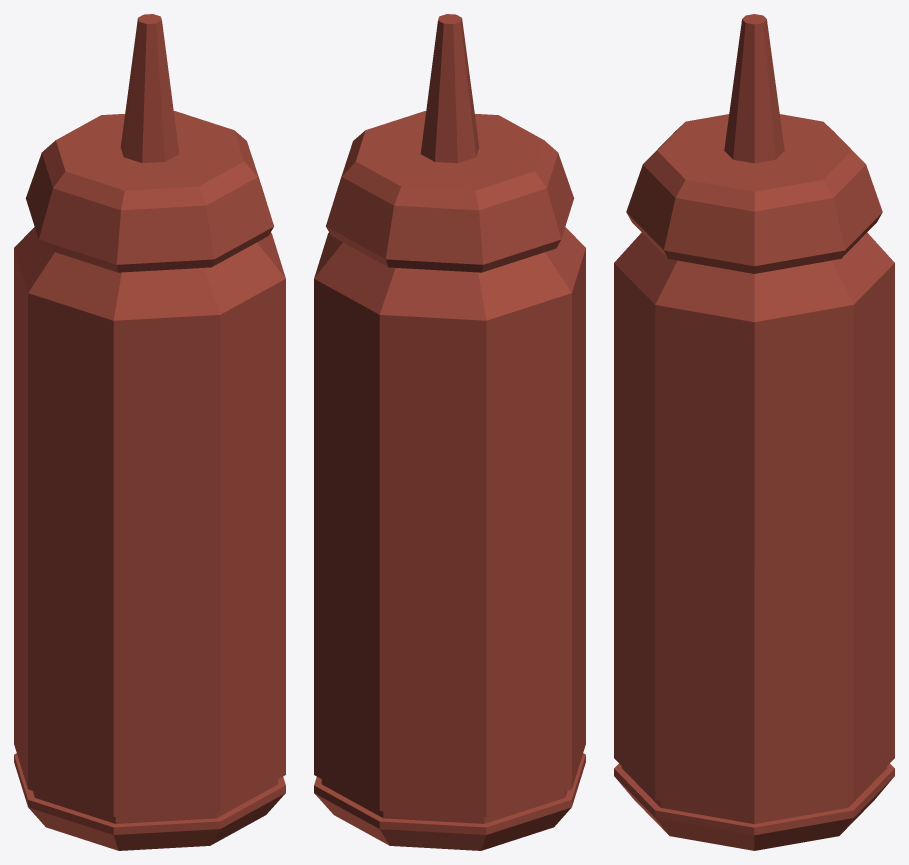
File: quaternius-ultimate-food-ketchupbottle.glb
The picture shows the model from 3 angles, left to right: view 1: azimuth 30°, elevation 25°; view 2: azimuth 150°, elevation 25°; view 3: azimuth 270°, elevation 25°; orthographic projection.
Parts seen in each view (by area): view 1: KetchupBottle; view 2: KetchupBottle; view 3: KetchupBottle.
Boxes of the visible parts, bbox=[...] form: KetchupBottle: bbox=[14, 14, 285, 850]; KetchupBottle: bbox=[314, 14, 585, 850]; KetchupBottle: bbox=[614, 14, 894, 850].
Bounding box in the file's own units: 0.4996 × 1.53 × 0.4996.
